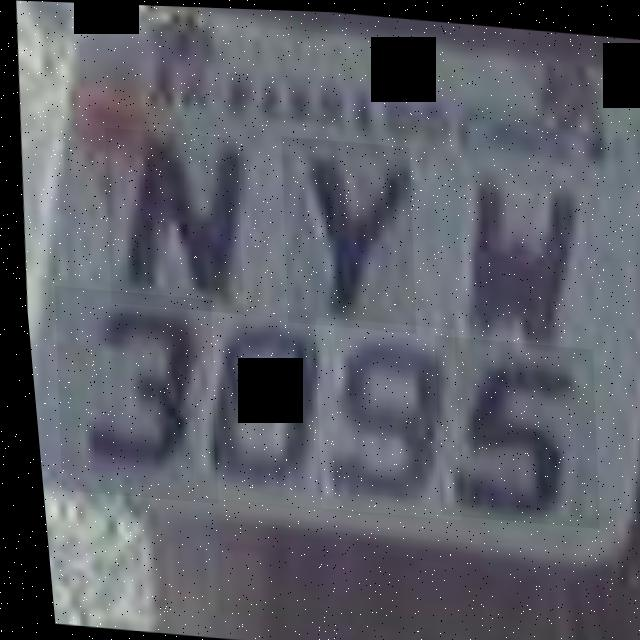0: (172, 308, 343, 508)
3: (39, 285, 220, 503)
5: (421, 332, 600, 525)
9: (299, 315, 463, 518)
N: (94, 126, 247, 313)
Y: (269, 134, 420, 332)
